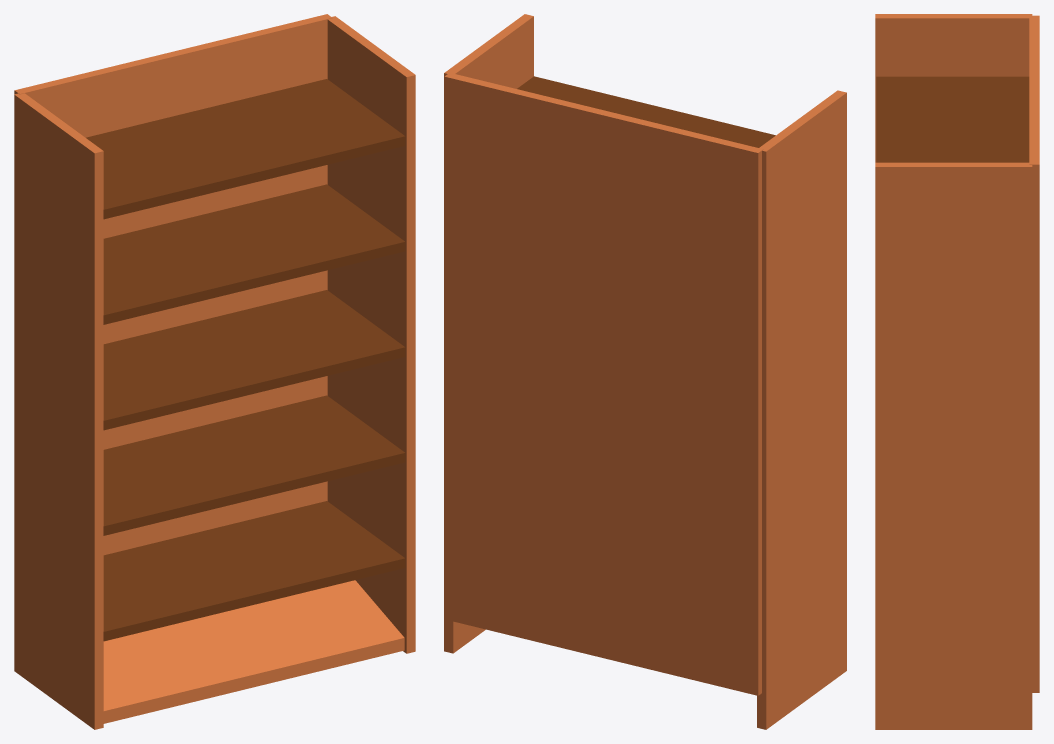
The model's file is BookShelf.fbx.
3 views of the same model, side by side, from view 1: azimuth 30°, elevation 25°; view 2: azimuth 150°, elevation 25°; view 3: azimuth 270°, elevation 25° (orthographic). The views are drawn at different scales.
Parts seen in each view (by area): view 1: Cube.002; view 2: Cube.002; view 3: Cube.002.
Part boxes in pixels (<box>): Cube.002: <box>14,14,415,729</box>; Cube.002: <box>444,14,846,729</box>; Cube.002: <box>875,14,1039,729</box>.
Size of the model in its own units: 2512 by 4312 by 1142.
